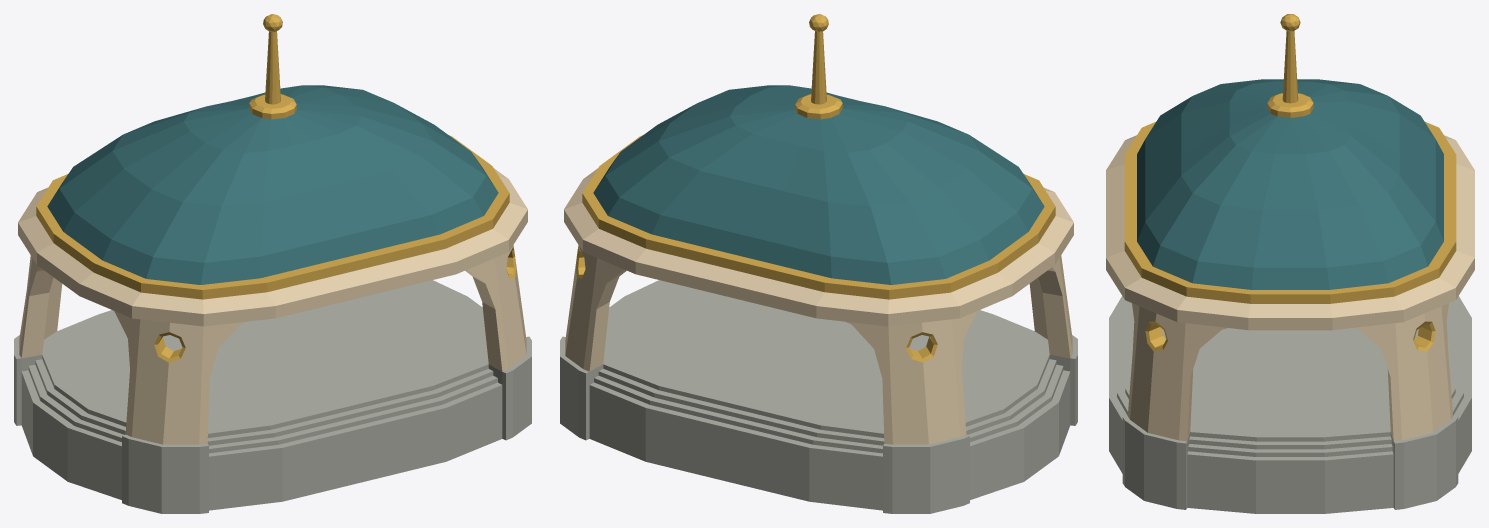
The picture shows the model from 3 angles, left to right: view 1: azimuth 30°, elevation 25°; view 2: azimuth 150°, elevation 25°; view 3: azimuth 270°, elevation 25°; orthographic projection.
Visible parts, largest first — view 1: commons; view 2: commons; view 3: commons.
Part boxes in pixels (left/top/right/bottom): commons: left=14, top=14, right=531, bottom=513; commons: left=560, top=14, right=1077, bottom=513; commons: left=1106, top=14, right=1474, bottom=513.
Size of the model in its own units: 12.61 by 11.01 by 9.28.
Materials: 1 (1 with a texture image).
